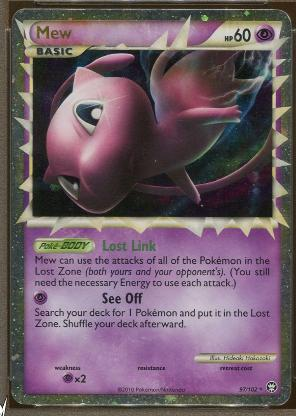Card: (8, 5, 292, 408)
